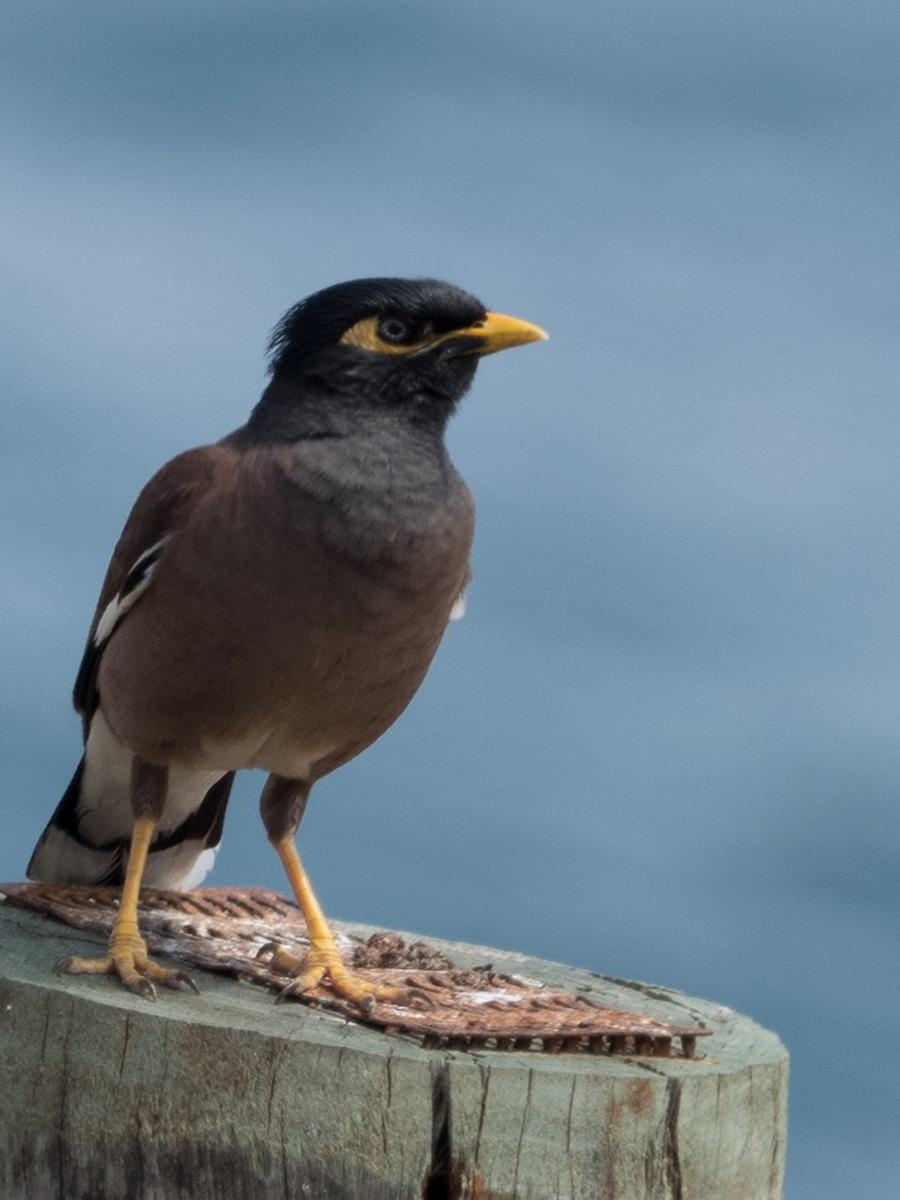myna: (53, 227, 679, 957)
